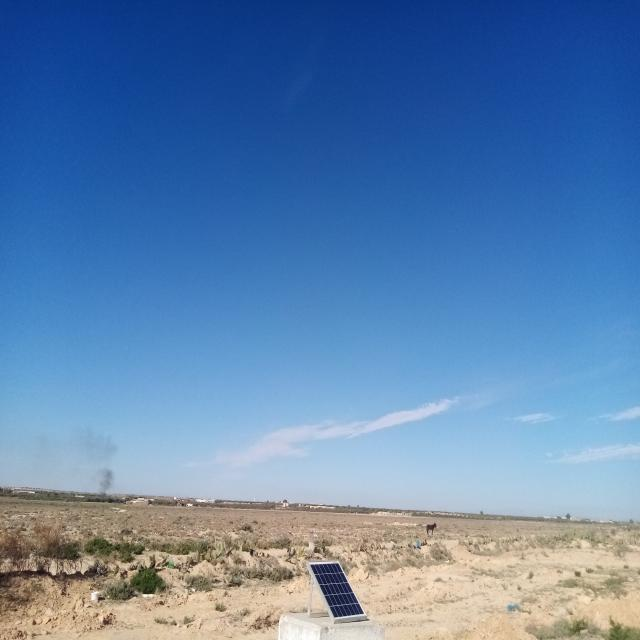no faulty: (308, 560, 366, 619)
